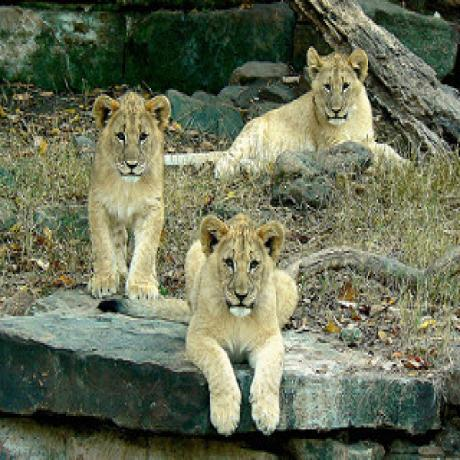Lion: (181, 216, 295, 438), (218, 43, 376, 172), (83, 93, 172, 299)
